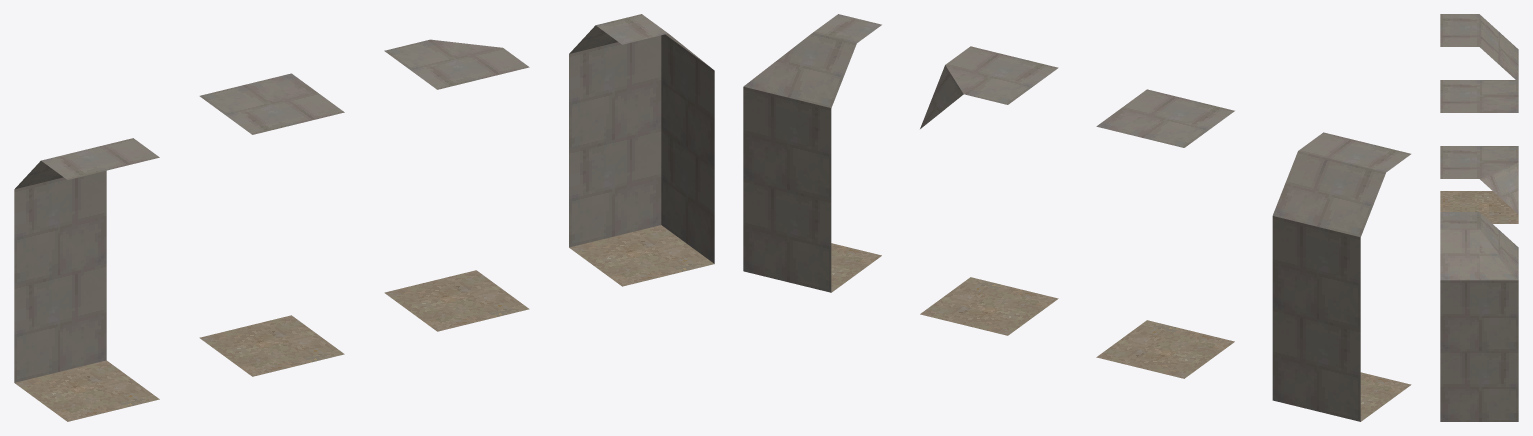
3 views of the same model, side by side, from view 1: azimuth 30°, elevation 25°; view 2: azimuth 150°, elevation 25°; view 3: azimuth 270°, elevation 25° (orthographic). The views are drawn at different scales.
Visible parts, largest first — view 1: corner-in, wall, floor-ceil, corner-out; view 2: wall, corner-in, corner-out, floor-ceil; view 3: corner-in, wall, corner-out, floor-ceil.
Part boxes in pixels (x1,y1,x2,y2): corner-in: (569, 14, 714, 286); wall: (14, 138, 159, 421); floor-ceil: (199, 73, 344, 376); corner-out: (384, 39, 529, 331); wall: (1272, 132, 1411, 421); corner-in: (743, 14, 881, 292); corner-out: (920, 46, 1058, 335); floor-ceil: (1096, 89, 1234, 378); corner-in: (1440, 212, 1518, 421); wall: (1440, 14, 1518, 223); corner-out: (1440, 146, 1518, 213); floor-ceil: (1440, 80, 1518, 112).
Bounding box in the file's own units: 7 × 2.5 × 1.
Materials: 1 (1 with a texture image).
